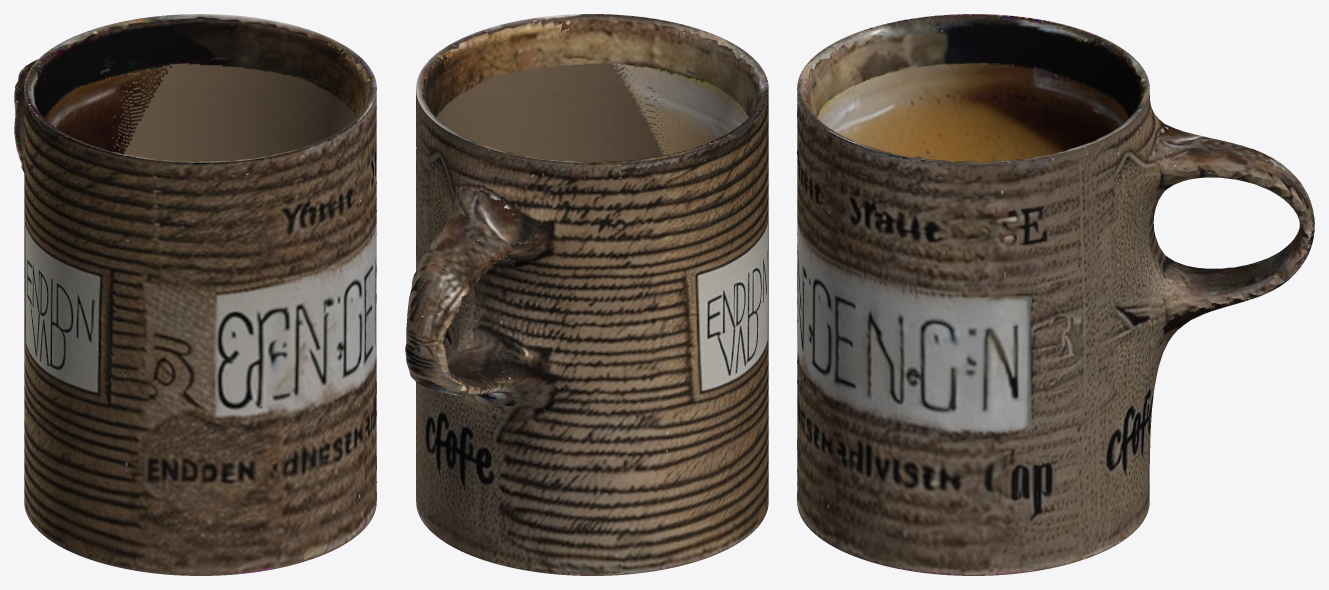
The model's file is mug.e5a06473.glb.
The picture shows the model from 3 angles, left to right: view 1: azimuth 30°, elevation 25°; view 2: azimuth 150°, elevation 25°; view 3: azimuth 270°, elevation 25°; orthographic projection.
Parts seen in each view (by area): view 1: mesh; view 2: mesh; view 3: mesh.
Part boxes in pixels (x1,y1,x2,y2): mesh: [14, 14, 376, 575]; mesh: [405, 14, 768, 575]; mesh: [797, 14, 1314, 575].
Bounding box in the file's own units: 0.513 × 0.6628 × 0.7531.
1 material, 1 textured.
